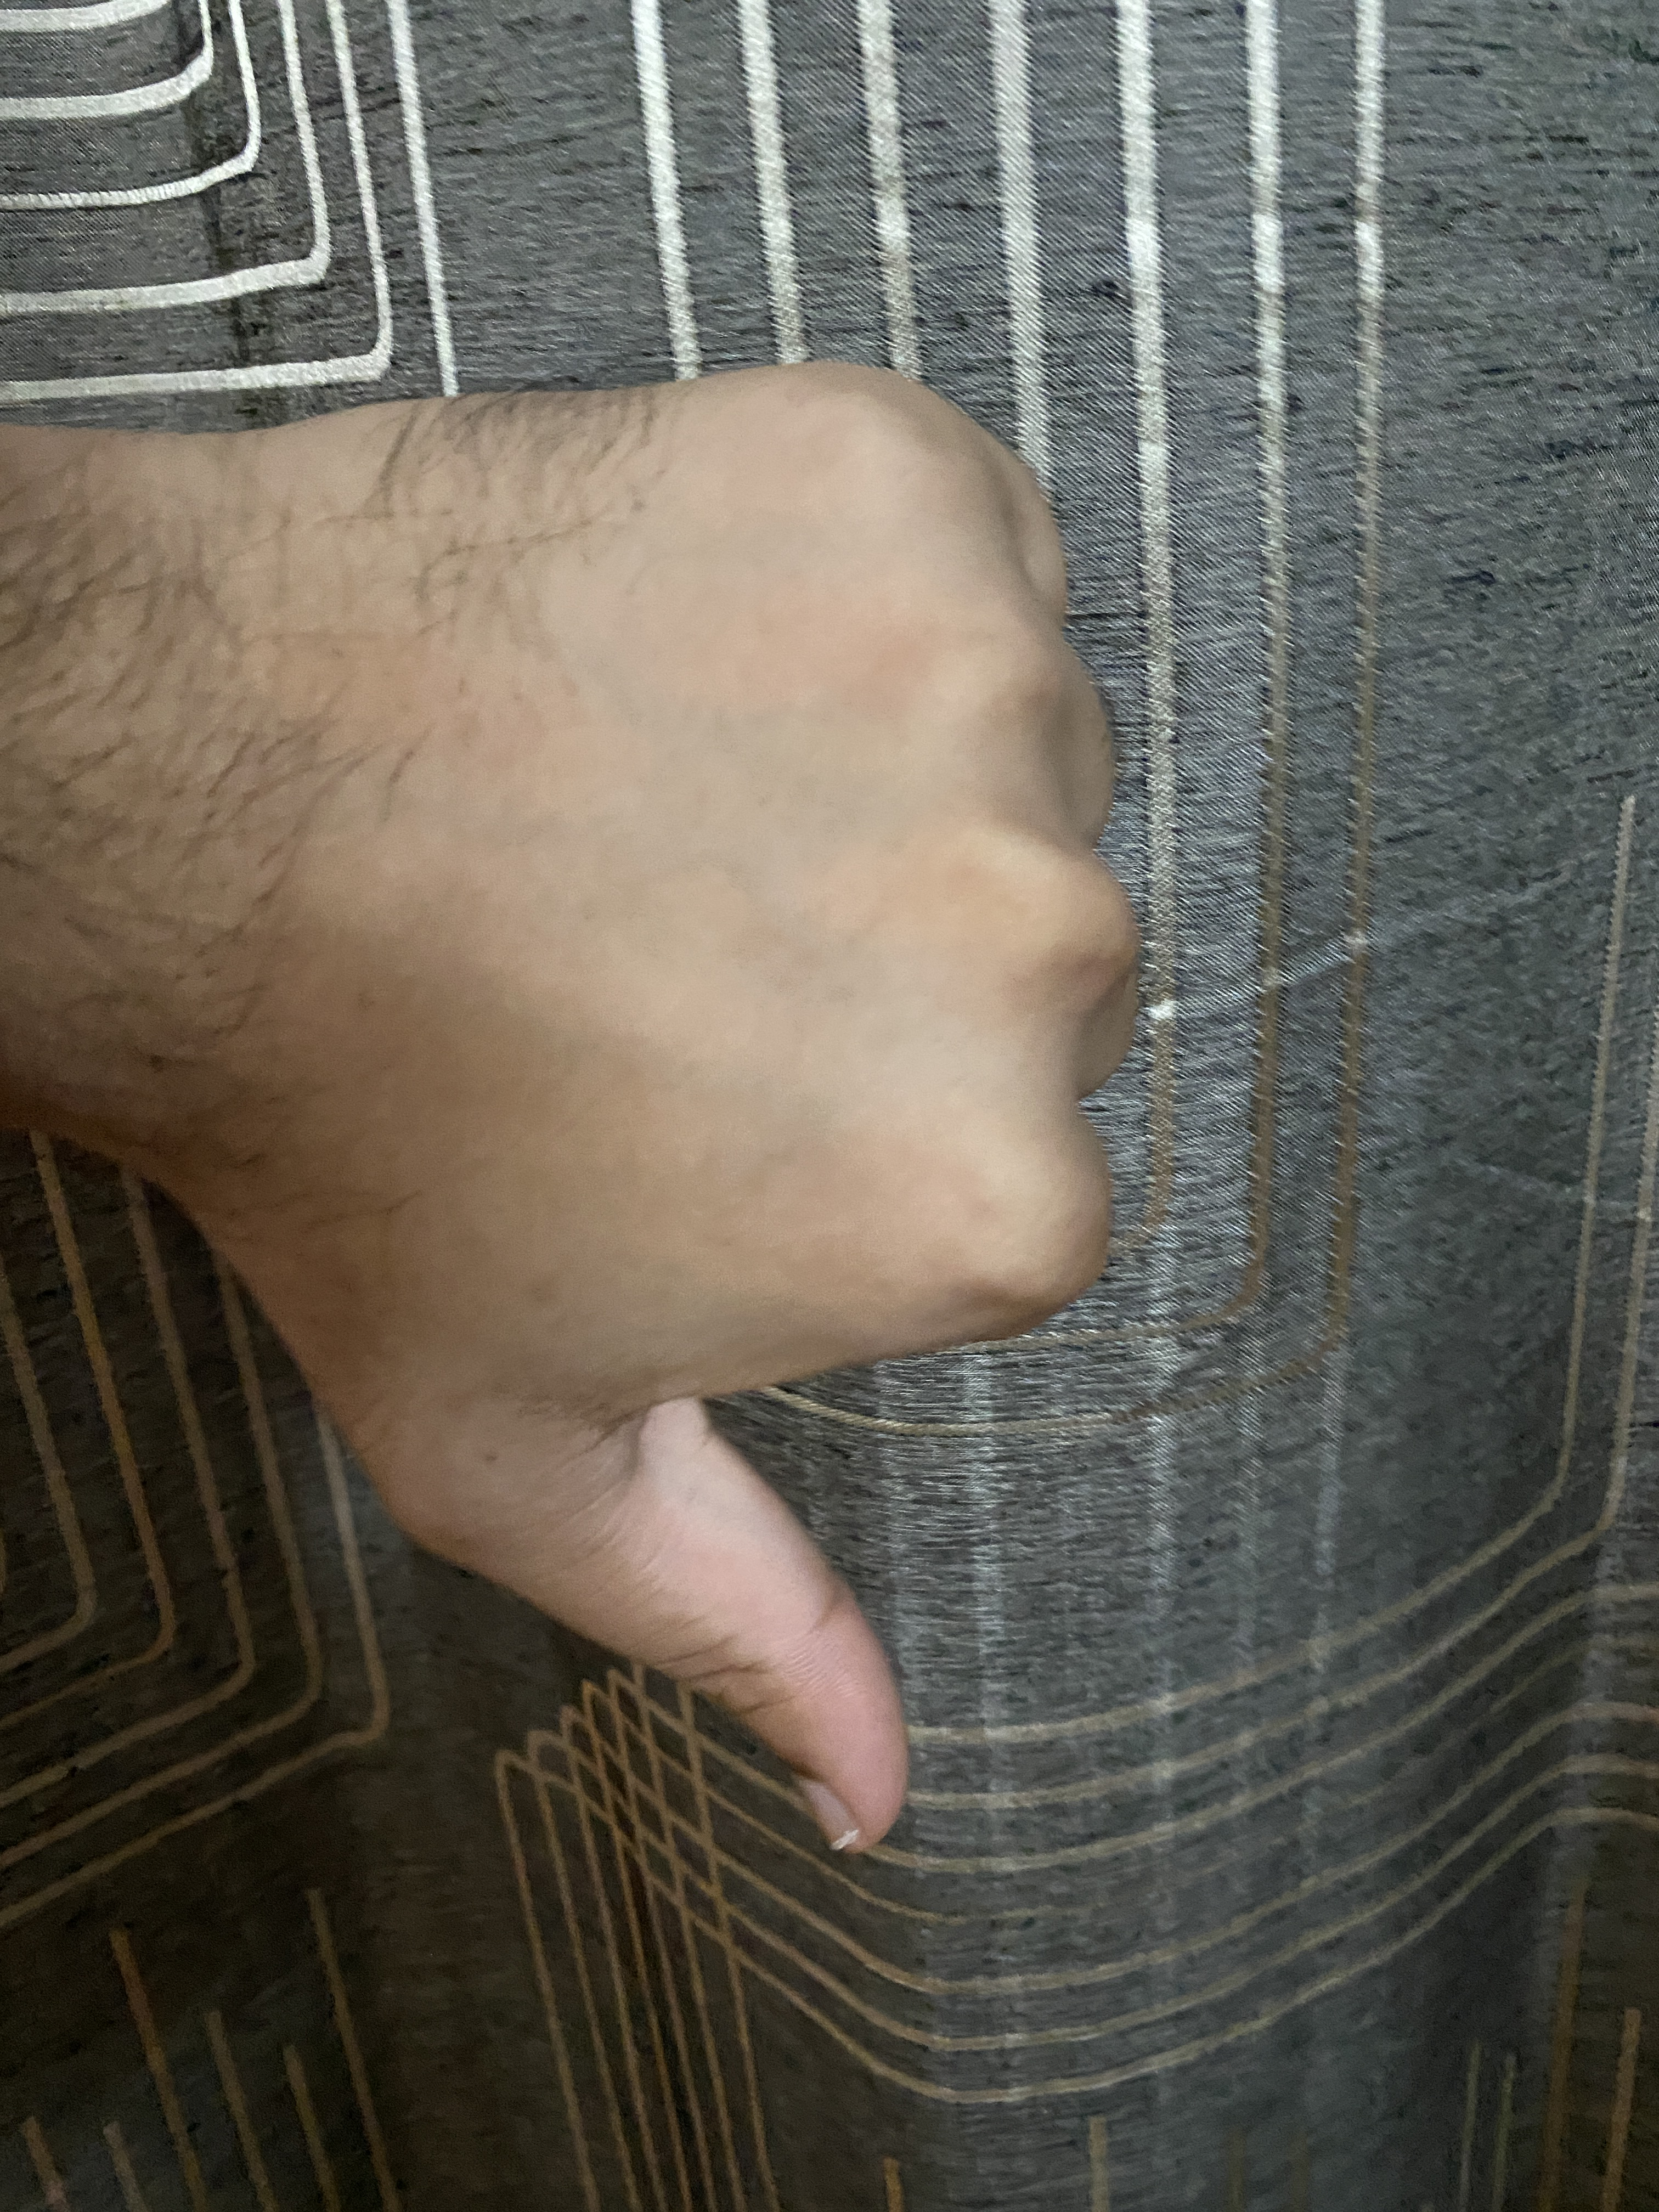down: (12, 272, 1236, 1937)
